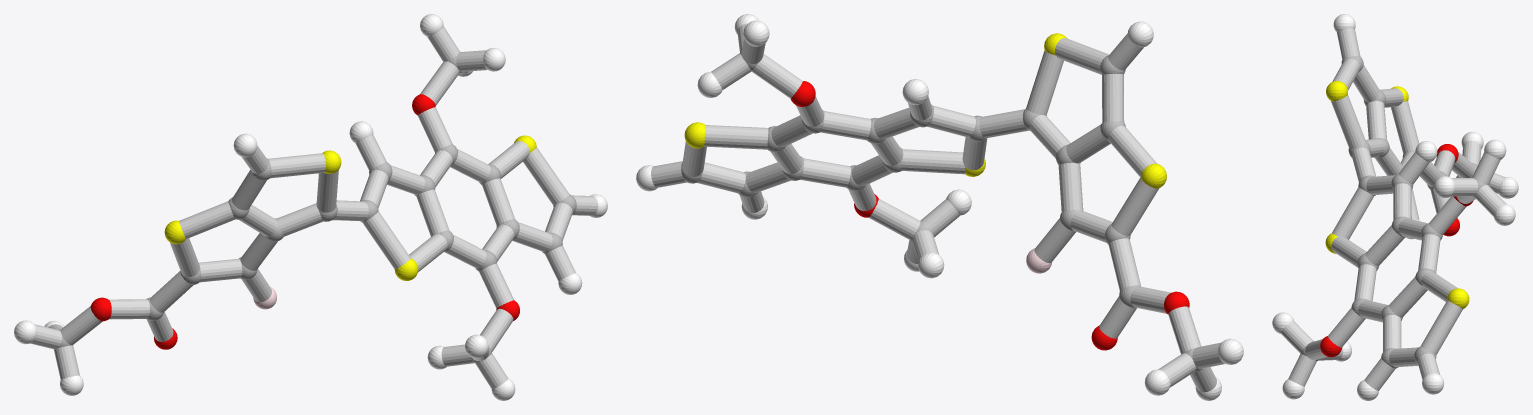
File: color.glb
The picture shows the model from 3 angles, left to right: view 1: azimuth 30°, elevation 25°; view 2: azimuth 150°, elevation 25°; view 3: azimuth 270°, elevation 25°; orthographic projection. The views are drawn at different scales.
Visible parts, largest first — view 1: grp15205, grp8689, grp1, grp7241, grp13395; view 2: grp15205, grp8689, grp1, grp7241, grp13395; view 3: grp15205, grp8689, grp1, grp7241, grp13395.
Part boxes in pixels (x1,y1,x2,y2): grp15205: (30, 26, 598, 389); grp8689: (14, 14, 607, 400); grp1: (58, 51, 576, 363); grp7241: (164, 135, 536, 280); grp13395: (90, 94, 519, 349); grp15205: (651, 23, 1225, 392); grp8689: (636, 14, 1243, 400); grp1: (681, 50, 1202, 372); grp7241: (684, 33, 1166, 188); grp13395: (790, 81, 1189, 350); grp15205: (1281, 28, 1506, 390); grp8689: (1272, 14, 1518, 400); grp1: (1301, 56, 1485, 368); grp7241: (1325, 81, 1469, 308); grp13395: (1320, 144, 1473, 357).
Bounding box in the file's own units: 16.53 × 8.35 × 6.68.
